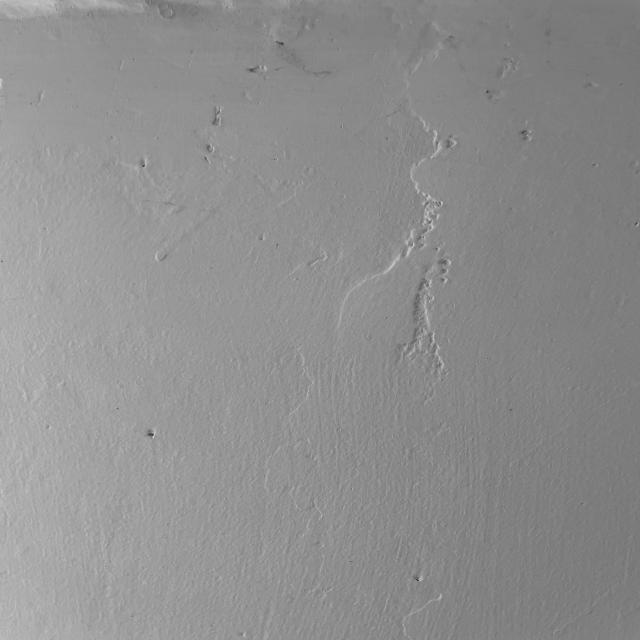pin holes: (268, 28, 292, 50), (138, 424, 162, 443), (408, 568, 430, 586), (135, 156, 151, 175), (478, 87, 493, 98)
rough and patchy surface: (0, 0, 637, 640)
